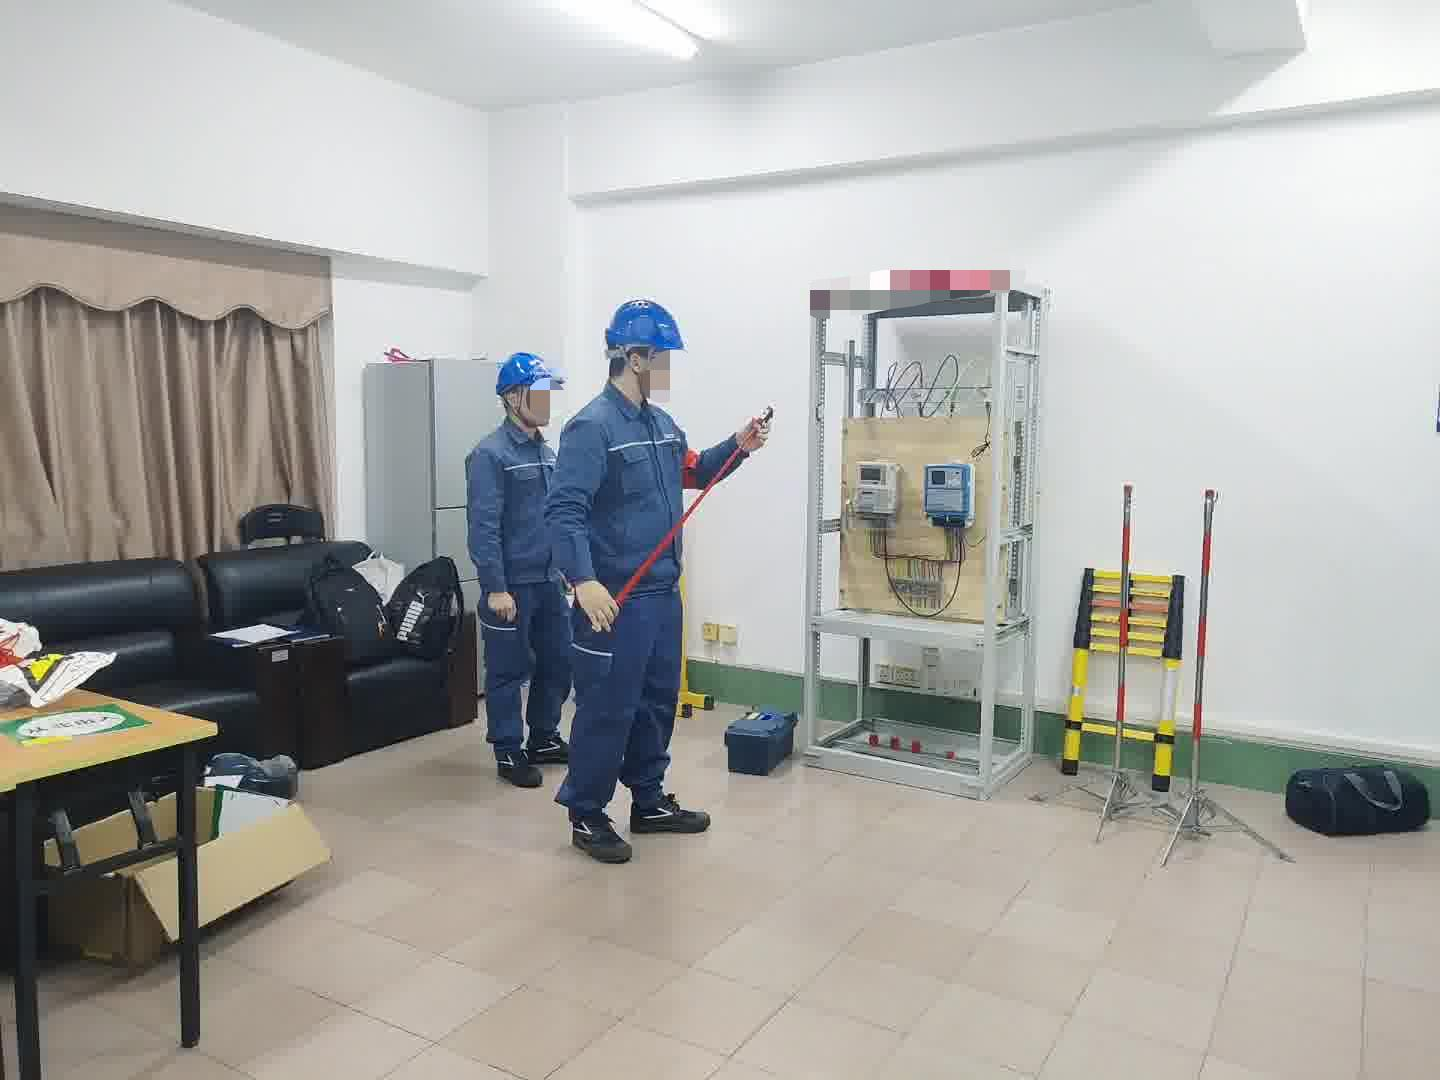halt: (605, 299, 691, 402), (495, 354, 568, 431)
inear: (622, 348, 659, 393), (502, 388, 533, 423)
